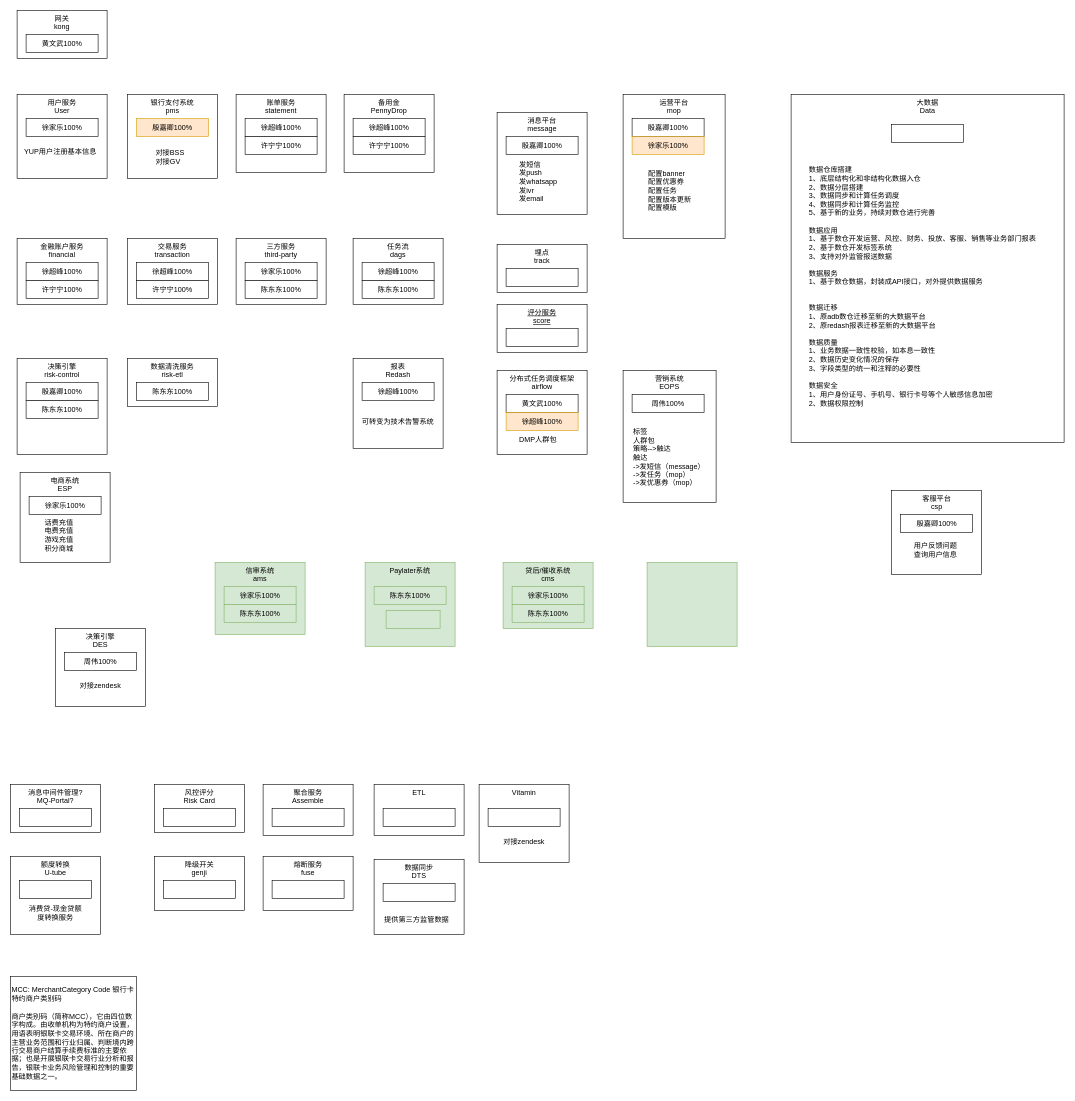
The diagram is 1075 pixels wide and 1101 high, and some of its shapes have lost their labels. Each missing label, with the centre of its shape:
Lender: (691,604)
已下线?: (542,337)
数据上报 P2P Paylater: (413,619)
李希加100%: (927,133)
殷嘉卿100% owner: 许宁宁: (542,277)
